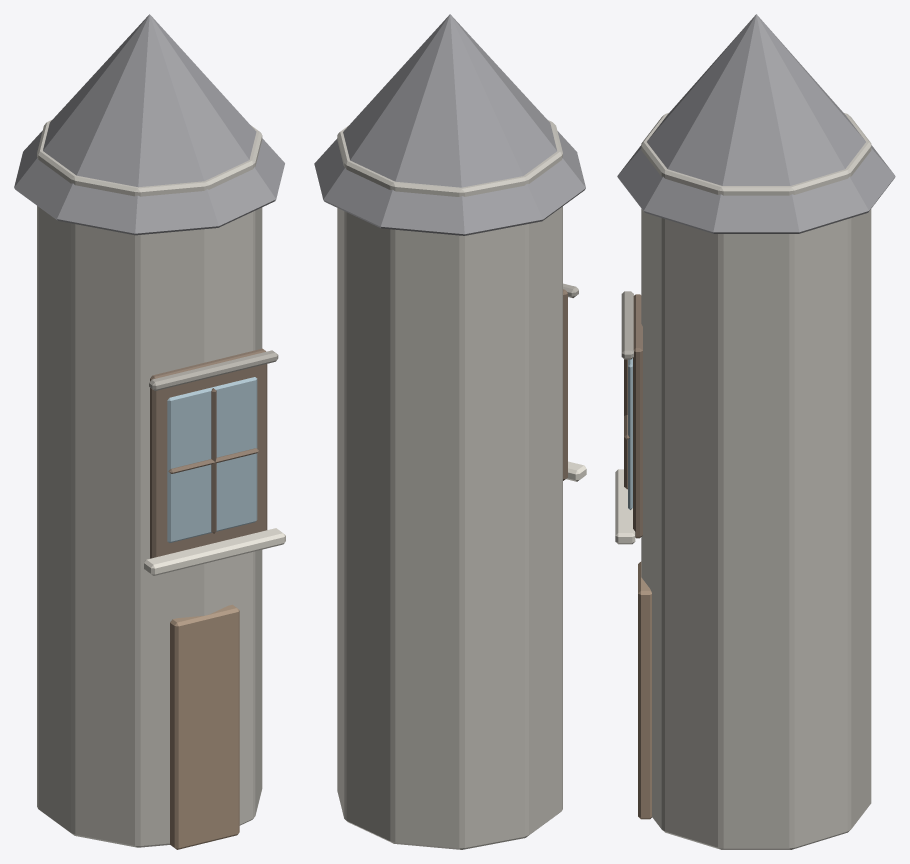
Rendered from watchtower.glb.
3 views of the same model, side by side, from view 1: azimuth 30°, elevation 25°; view 2: azimuth 150°, elevation 25°; view 3: azimuth 270°, elevation 25° (orthographic).
Visible parts, largest first — view 1: tower, roof, door, wglass, wframe, wsill, wlintel, wbar_v, wbar_h; view 2: tower, roof, wframe; view 3: tower, roof, door, wframe, wsill, wlintel, wglass.
Boxes of the visible parts, left/top/right/bottom form: tower: left=37, top=120, right=262, bottom=847; roof: left=14, top=14, right=284, bottom=235; door: left=170, top=604, right=239, bottom=849; wglass: left=167, top=377, right=257, bottom=542; wframe: left=150, top=348, right=267, bottom=558; wsill: left=144, top=528, right=285, bottom=575; wlintel: left=149, top=350, right=278, bottom=390; wbar_v: left=211, top=388, right=216, bottom=533; wbar_h: left=168, top=448, right=258, bottom=473; tower: left=337, top=120, right=562, bottom=849; roof: left=314, top=14, right=585, bottom=235; wframe: left=563, top=289, right=567, bottom=480; tower: left=641, top=113, right=871, bottom=849; roof: left=617, top=14, right=895, bottom=233; door: left=638, top=561, right=651, bottom=819; wframe: left=633, top=294, right=642, bottom=538; wsill: left=615, top=469, right=635, bottom=544; wlintel: left=621, top=291, right=633, bottom=359; wglass: left=628, top=358, right=632, bottom=509.
Bounding box in the file's own units: 1.05 × 3.46 × 1.11.
